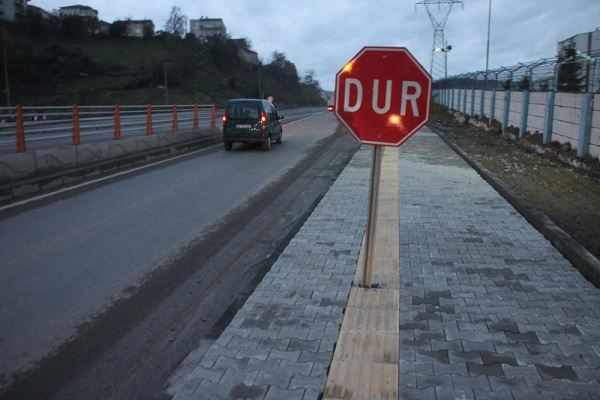dur: (333, 47, 436, 147)
otomobil: (216, 85, 292, 152)
